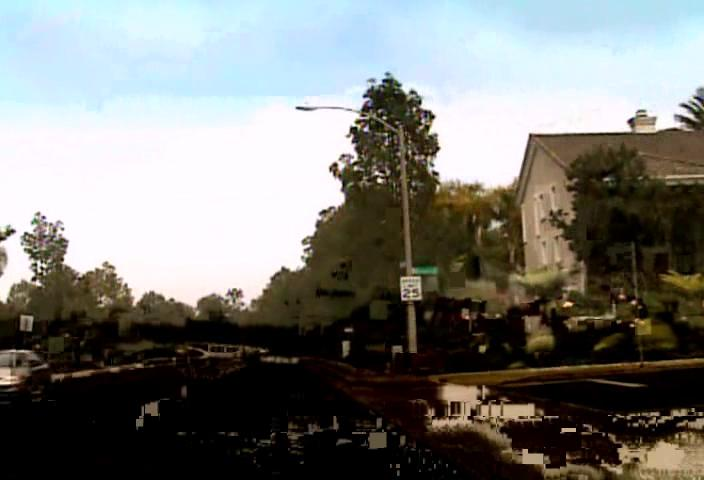speedLimit25: (399, 275, 423, 301)
